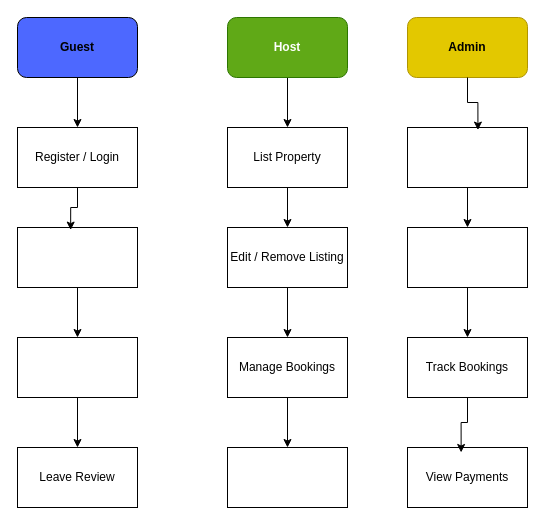
Some shapes in this 545 by 525 pixel diagram are drawn without their labels. Here are the shapes that lost their labels. From the top down, the centre of each, then its label:
At point 467,157: "Monitor Users".
At point 77,257: "Search Properties".
At point 467,257: "Manage Listings".
At point 77,367: "Book Property".
At point 287,477: "Respond to Reviews".
